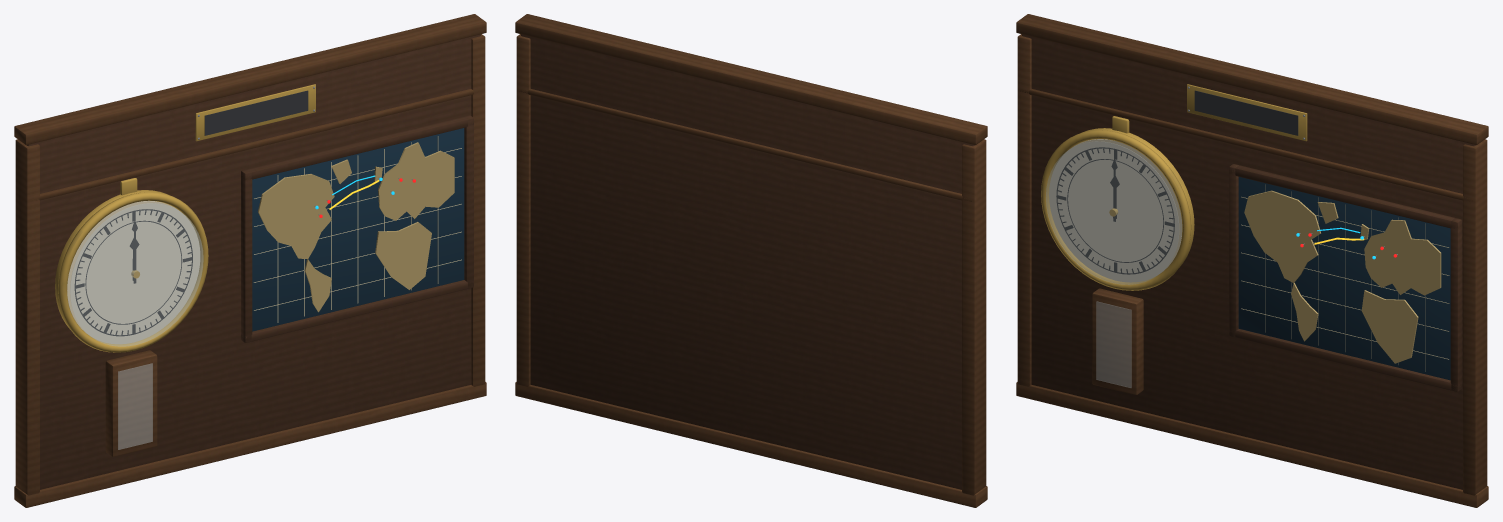
The model's file is clock_map.glb.
The picture shows the model from 3 angles, left to right: view 1: azimuth 30°, elevation 25°; view 2: azimuth 150°, elevation 25°; view 3: azimuth 330°, elevation 25°; orthographic projection.
Parts seen in each view (by area): view 1: clock_map_static, mapBoard_static, clock_static, titlePlate_static; view 2: clock_map_static; view 3: clock_map_static, mapBoard_static, clock_static, titlePlate_static.
Part boxes in pixels (<box>): clock_map_static: <box>14,14,486,507</box>; mapBoard_static: <box>241,115,473,342</box>; clock_static: <box>55,178,208,352</box>; titlePlate_static: <box>195,84,315,141</box>; clock_map_static: <box>515,14,987,507</box>; clock_map_static: <box>1016,14,1488,507</box>; mapBoard_static: <box>1229,164,1461,391</box>; clock_static: <box>1041,116,1194,290</box>; titlePlate_static: <box>1187,84,1307,141</box>.
Size of the model in its own units: 3.46 by 2.68 by 0.252.
14 materials, 4 textured.
